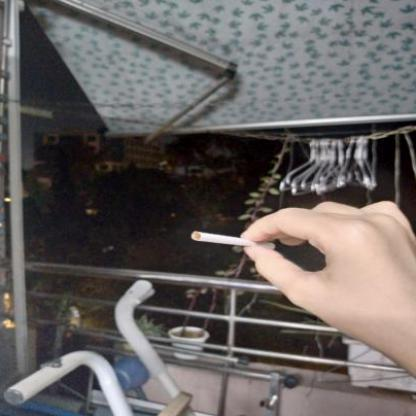cigarette: (189, 230, 277, 254)
